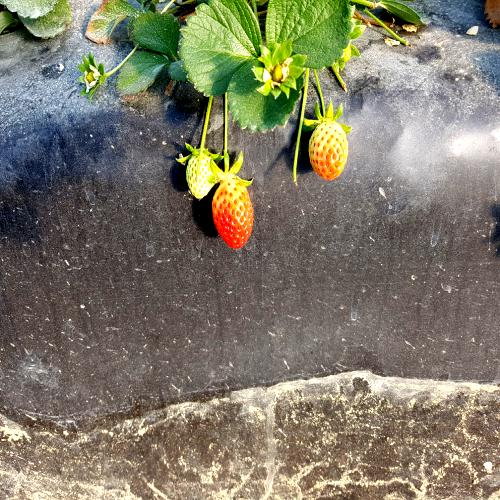partially-ripe: (212, 167, 256, 258), (307, 105, 350, 190)
